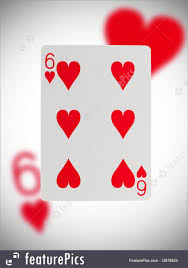six of hearts: (39, 43, 152, 202)
